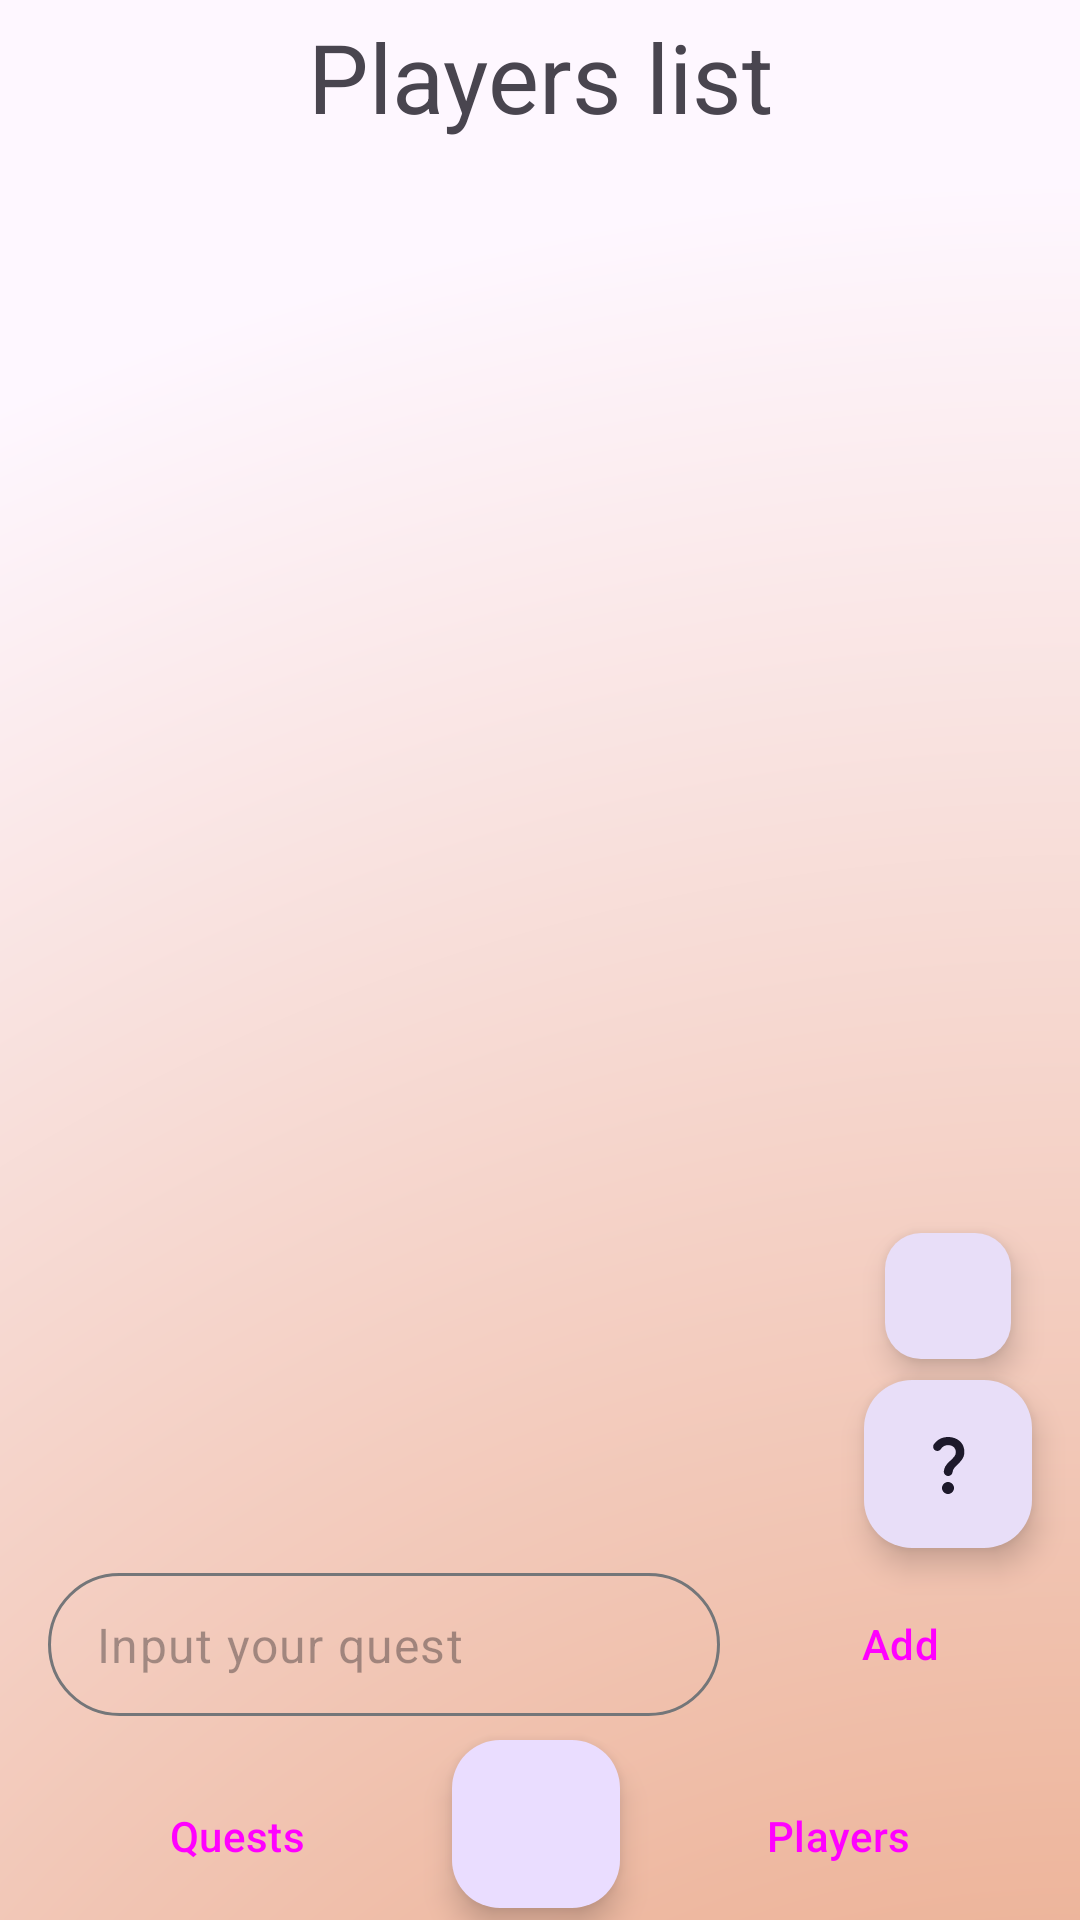

Icons on this 1080px x 1920px Android screen, each with the point to tap as point (x, y):
Hint: point (948, 1464)
